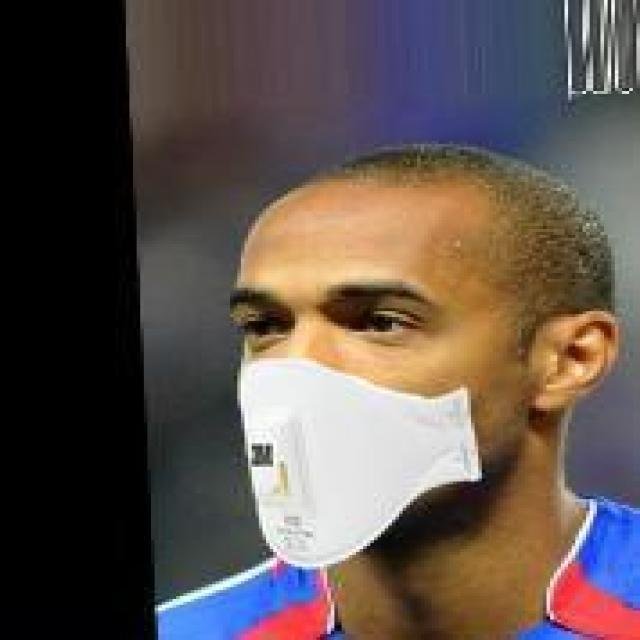mask: (212, 97, 640, 566)
